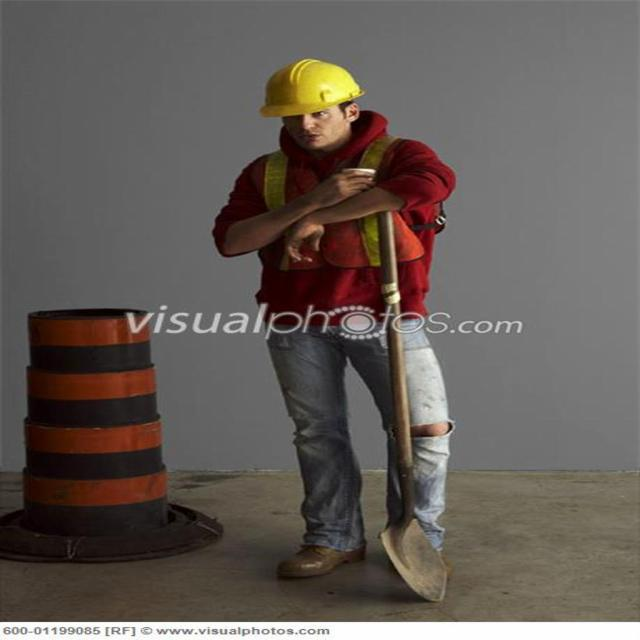nomask: (284, 88, 337, 146)
